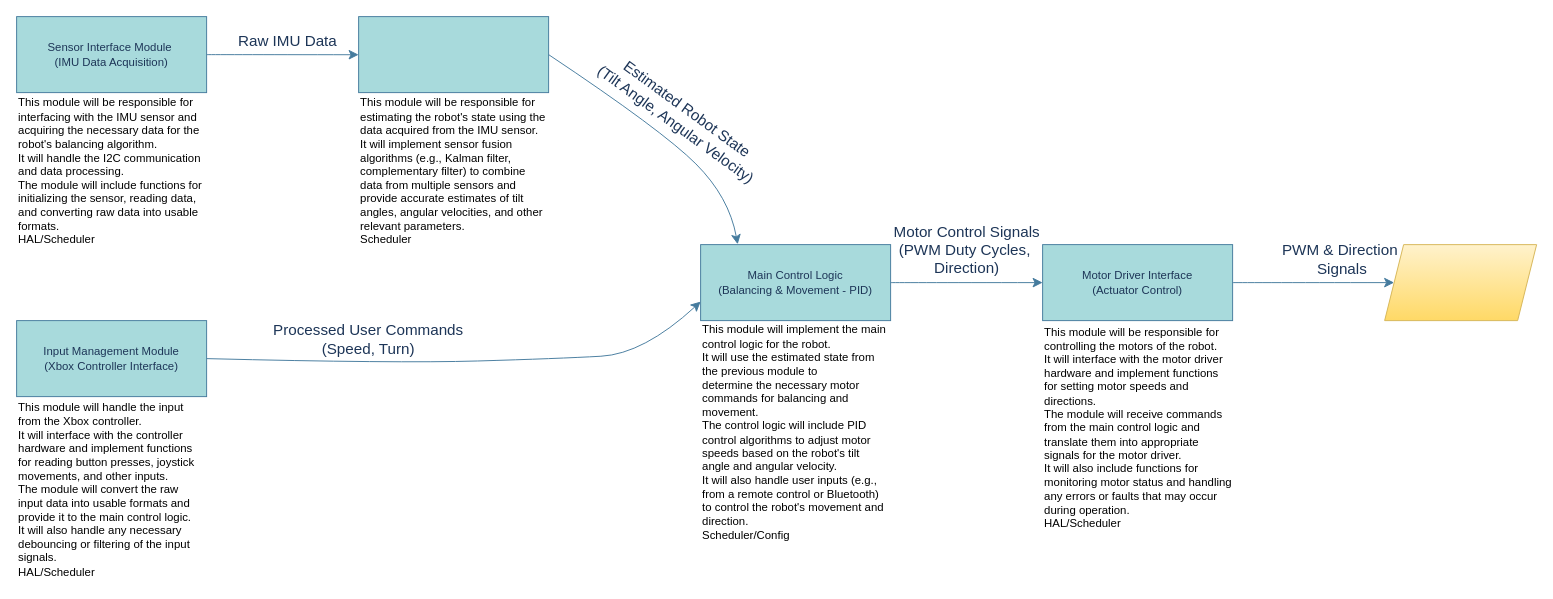
Image size: 1553x599. Some labels were removed from this diagram. Here are the shapes that lost their labels. From the top down, the centre of each, then its label:
At [453,54]: "State Estimation & Sensor Fusion (Tilt, Angular Velocity)".
At [1460,282]: "(2) DC Motors (via Driver Unit)".
